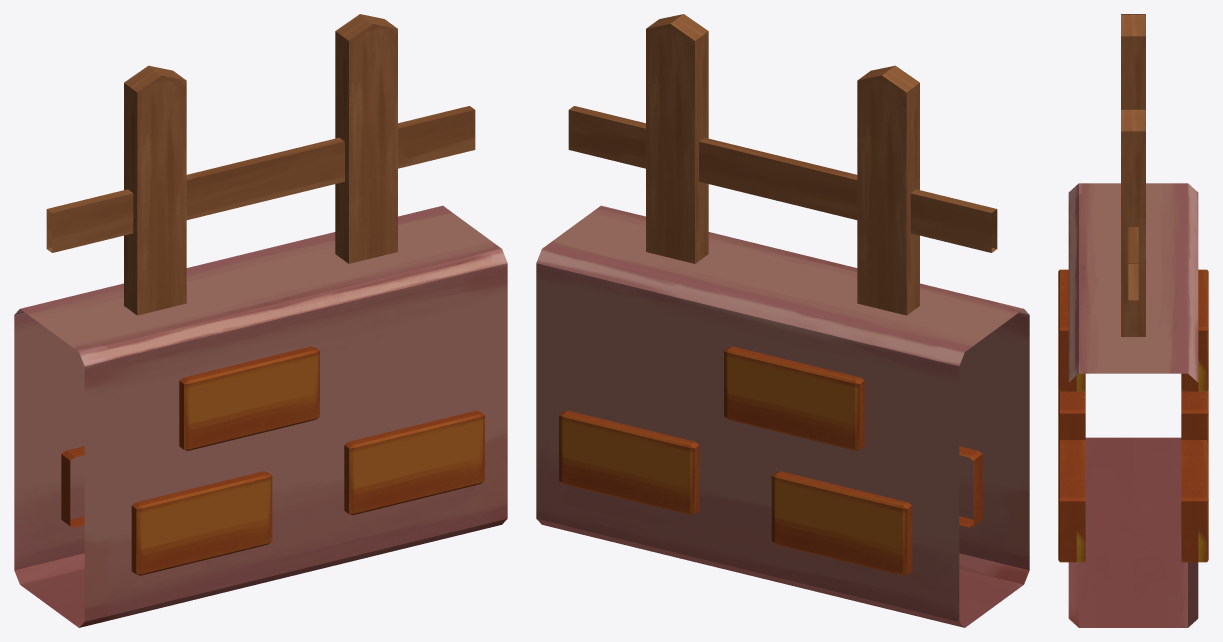
The model's file is Fence_01_MDL.glb.
3 renders of one model, left to right at view 1: azimuth 30°, elevation 25°; view 2: azimuth 150°, elevation 25°; view 3: azimuth 270°, elevation 25°, orthographic. The views are drawn at different scales.
Visible parts, largest first — view 1: Fence_MSH; view 2: Fence_MSH; view 3: Fence_MSH.
Part boxes in pixels (x1,y1,x2,y2): Fence_MSH: [14, 14, 507, 627]; Fence_MSH: [536, 14, 1029, 627]; Fence_MSH: [1058, 14, 1208, 627].
Size of the model in its own units: 1.88 by 2.16 by 0.6263.
1 material, 1 textured.
